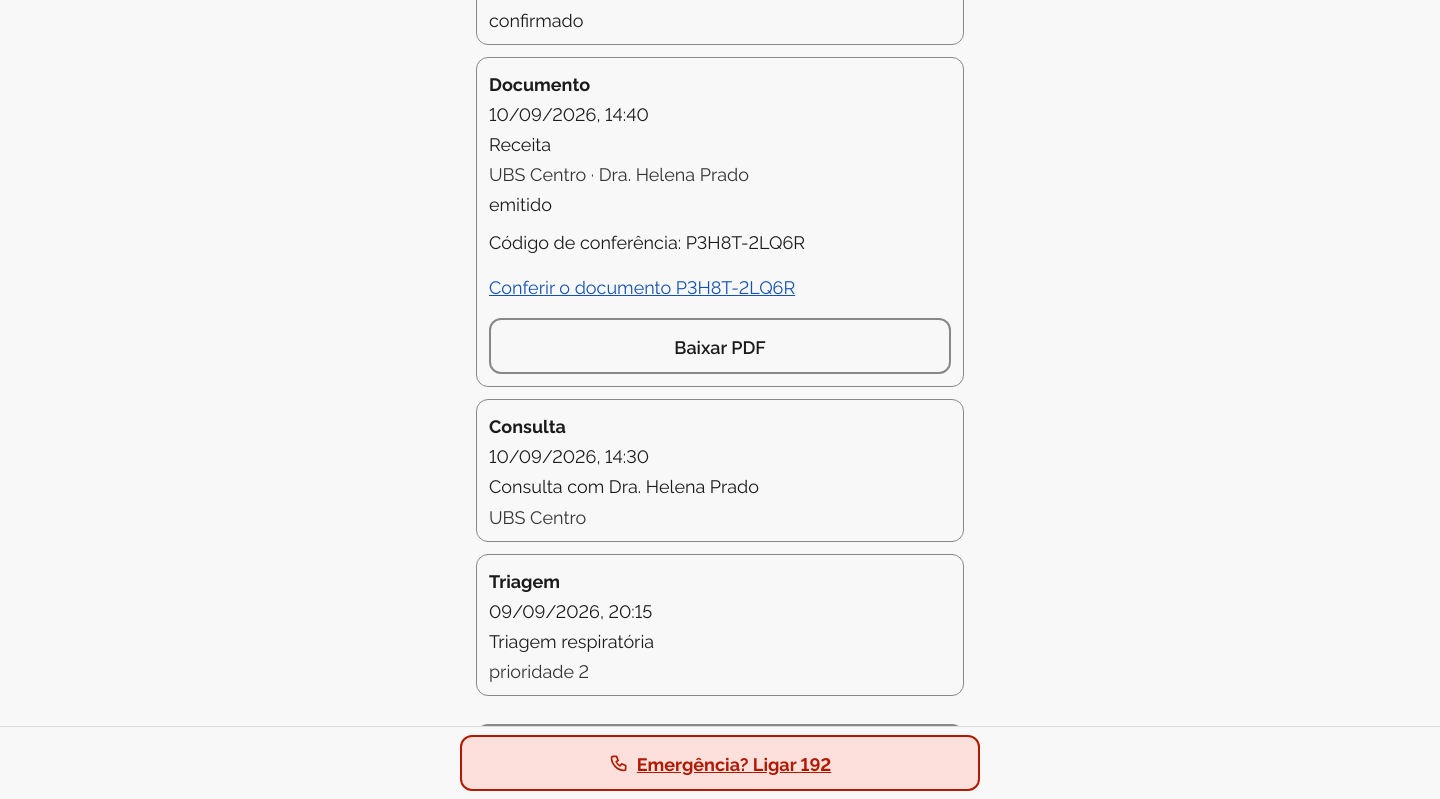
Test case: MyHistoryStep › baixar pela linha do tempo e falhar: o erro aparece na própria linha do tempo
(page scrolled)
What coordinates should you click on to do the following:
click the button with aria-label "Baixar PDF de Receita"
I would click on:
 (720, 346)
Its box is [489,318,951,374].
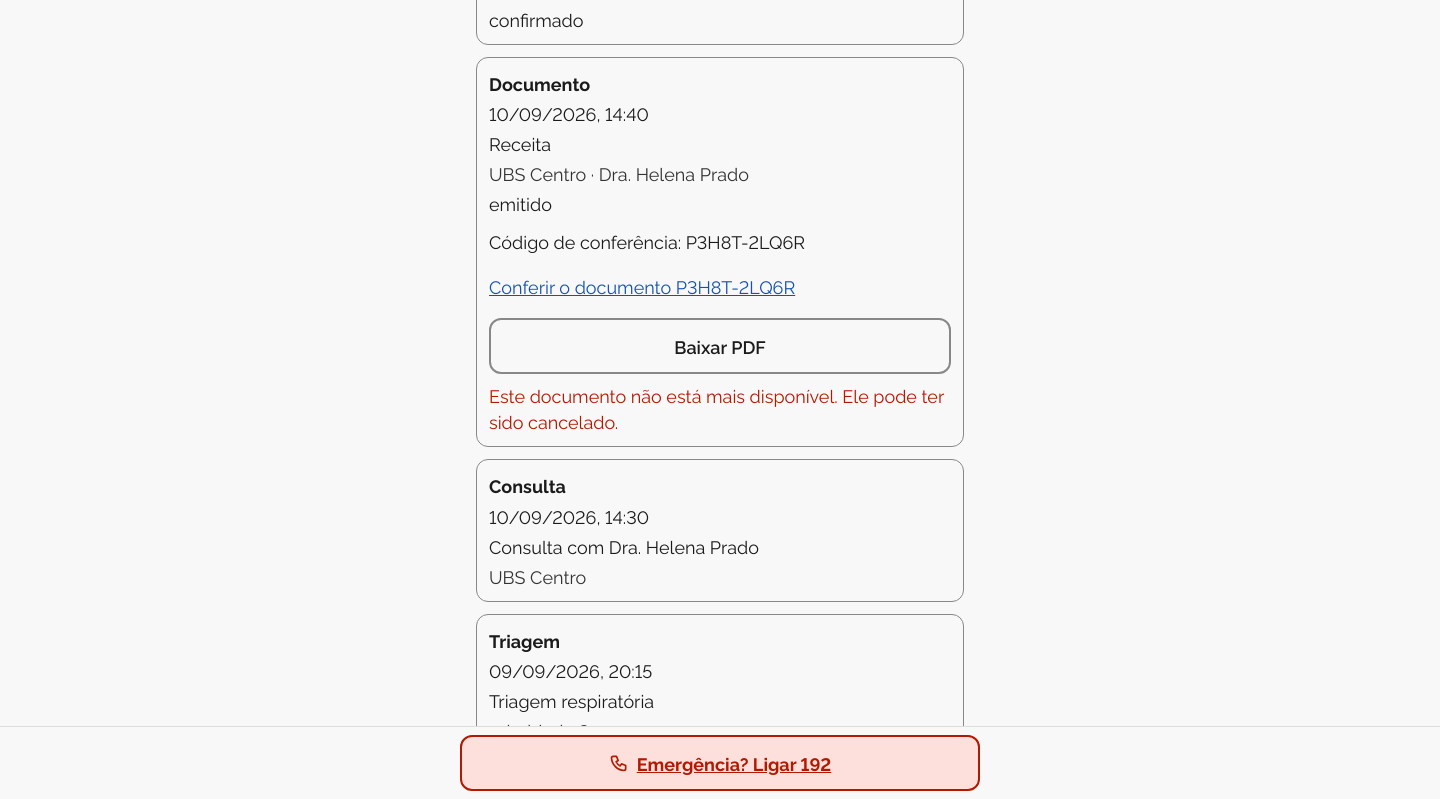
Expected: the text "Este documento não está mais disponível. Ele pode ter sido cancelado." is shown, [489,382,951,434]
